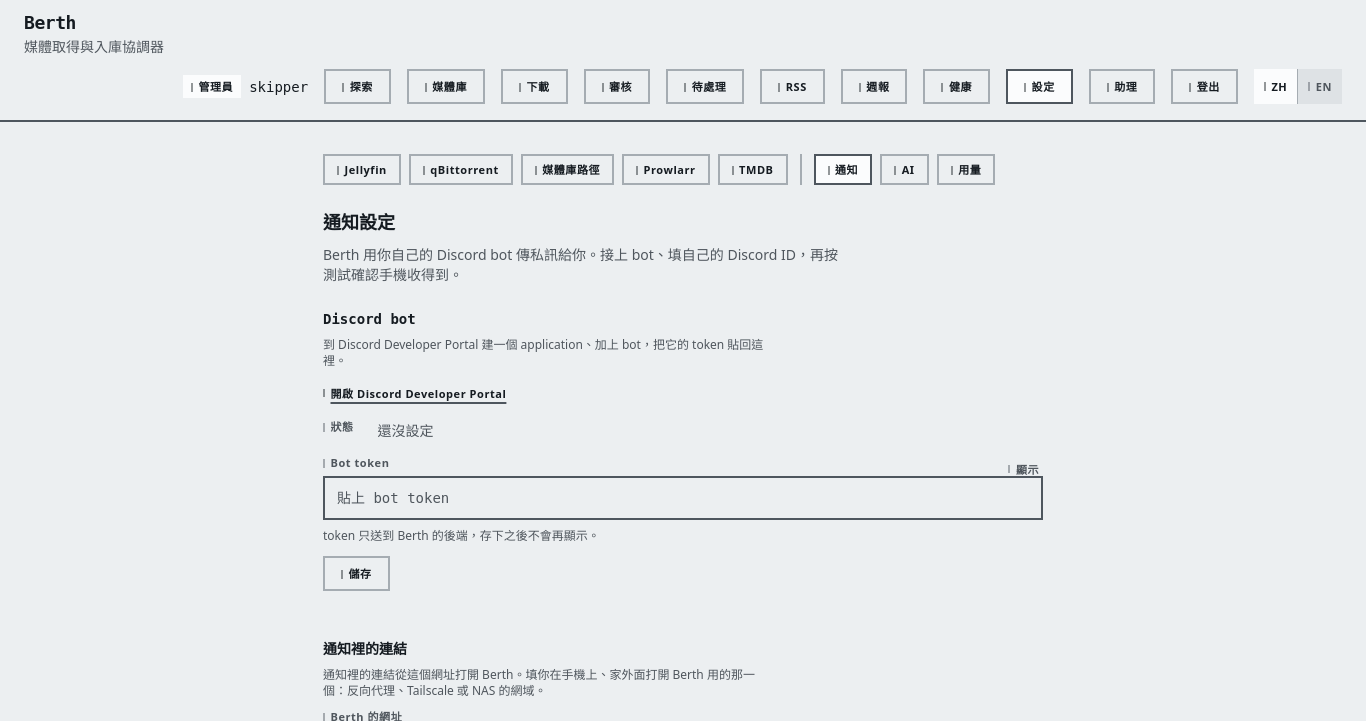
設定 → 通知 › 先存再移除：狀態句說的是最後一個動作
The image size is (1366, 721).
Type "good-token" into the password field labelled "Bot token" at (683, 498), box [323,476,1043,520]
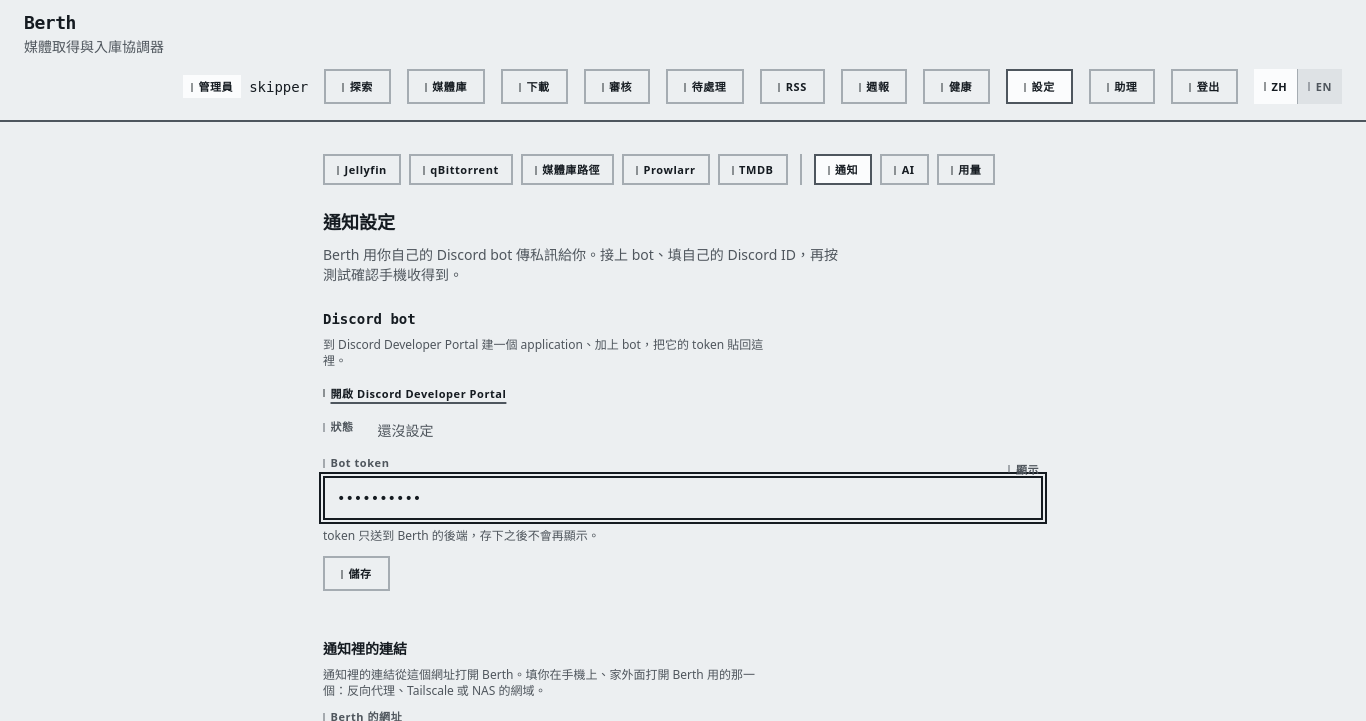
Click the button "儲存" at (356, 574), box [323,556,390,591]
(page scrolled)
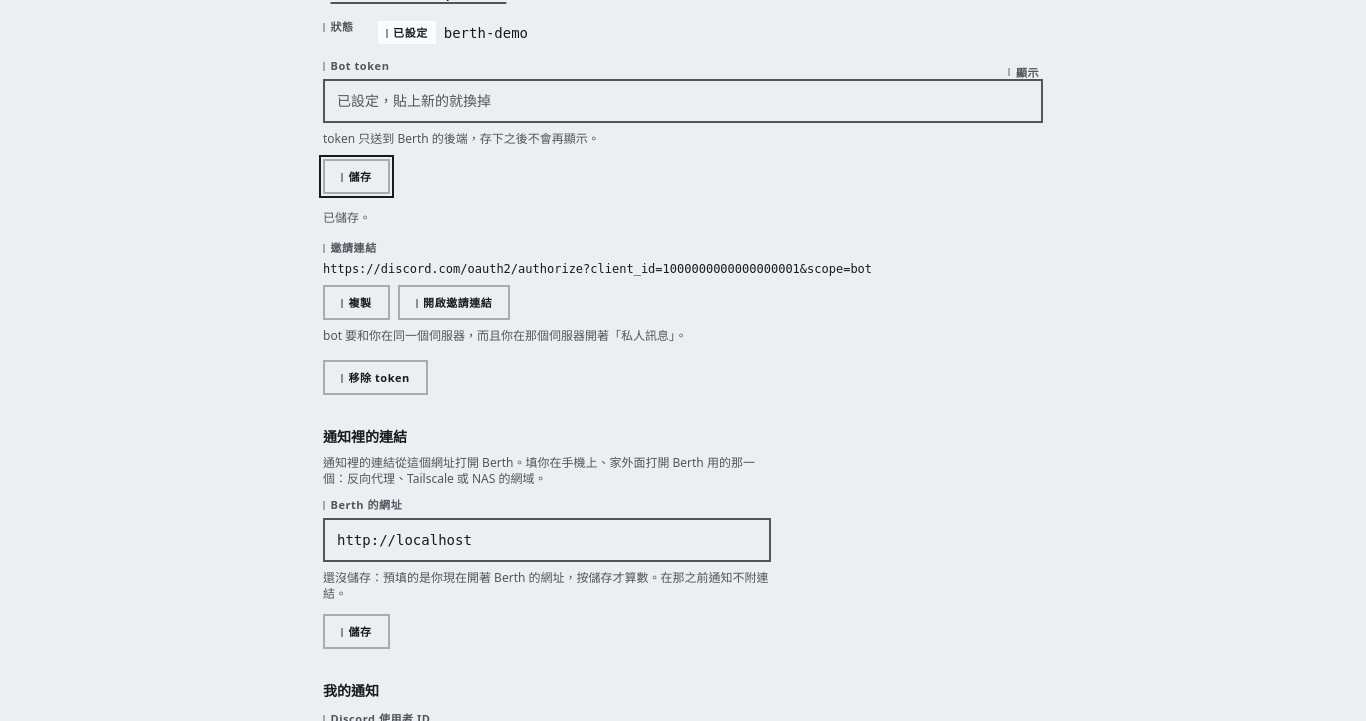
Expected: the text "已儲存。" is shown, [323,209,371,226]
Click the button "移除 token" at (375, 378), box [323,360,428,395]
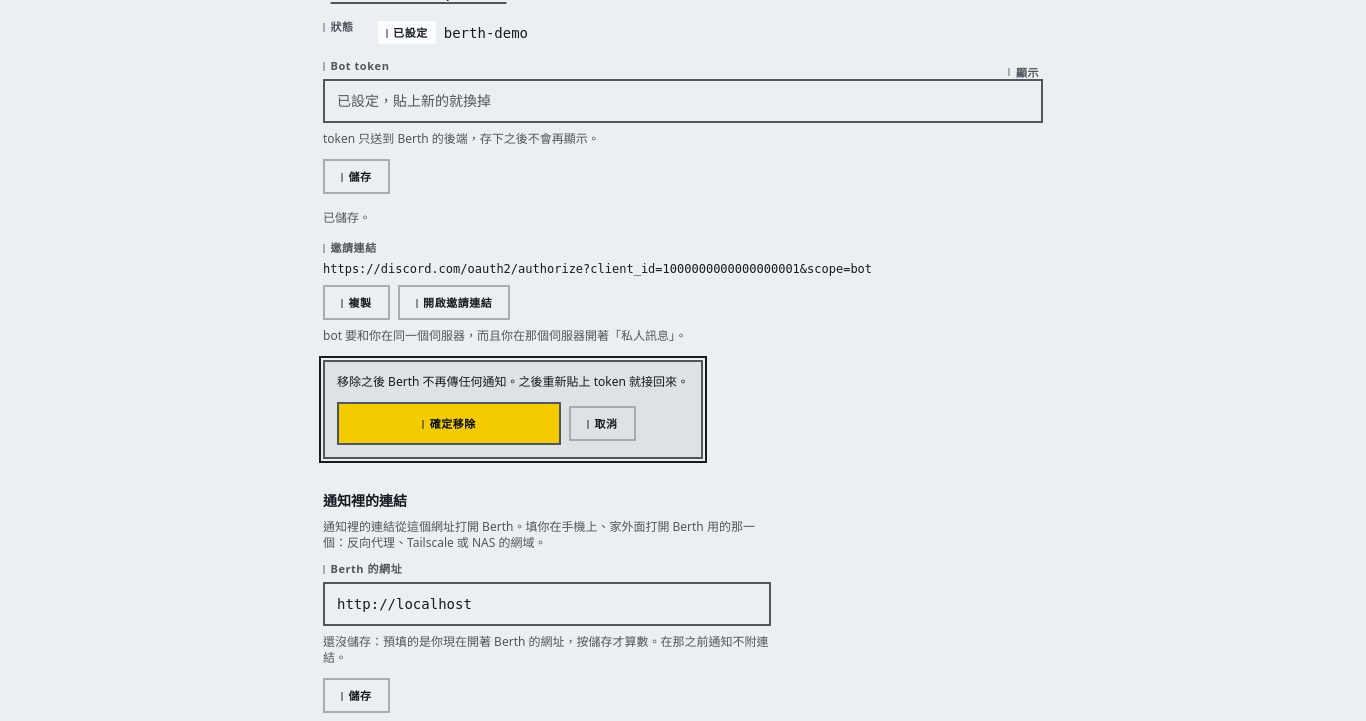
Click the button "確定移除" at (449, 424), box [337,402,561,445]
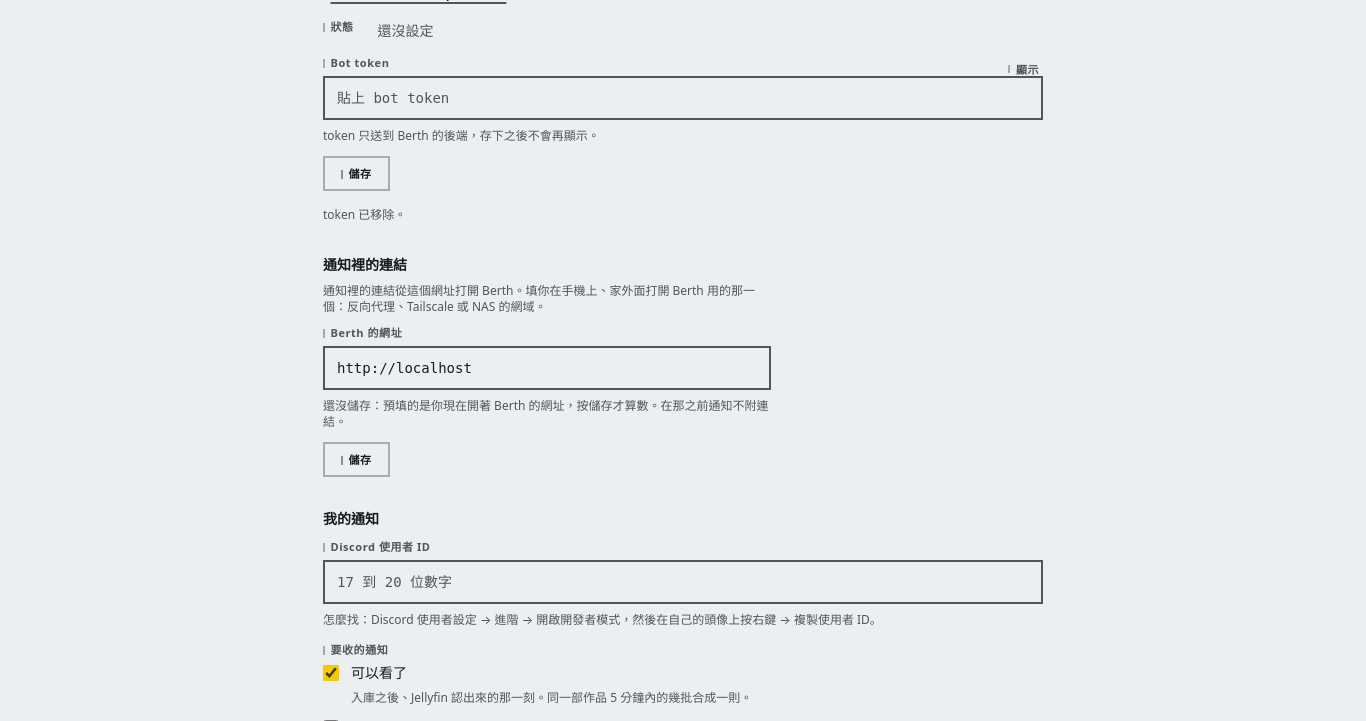
Expected: the text "token 已移除。" is shown, [323,206,406,223]
Expected: the text "已儲存。" is gone
